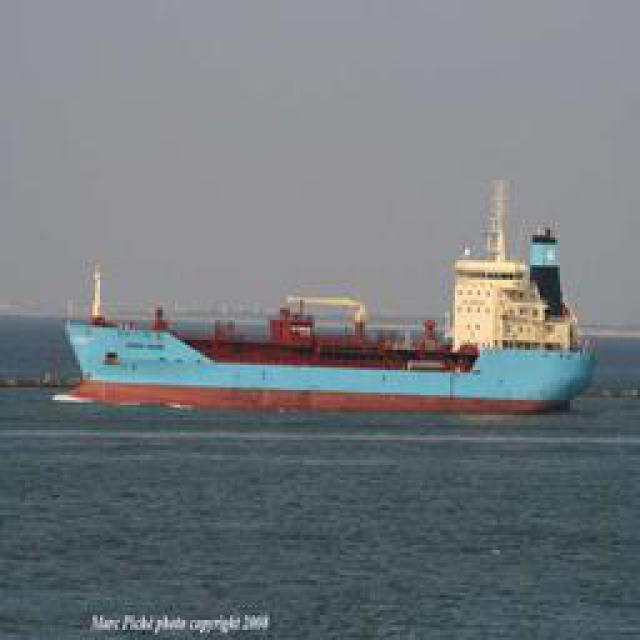Ship: (50, 212, 603, 420)
